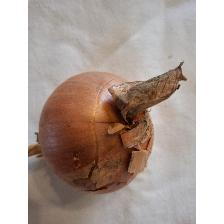Zwiebel: (28, 61, 188, 197)
